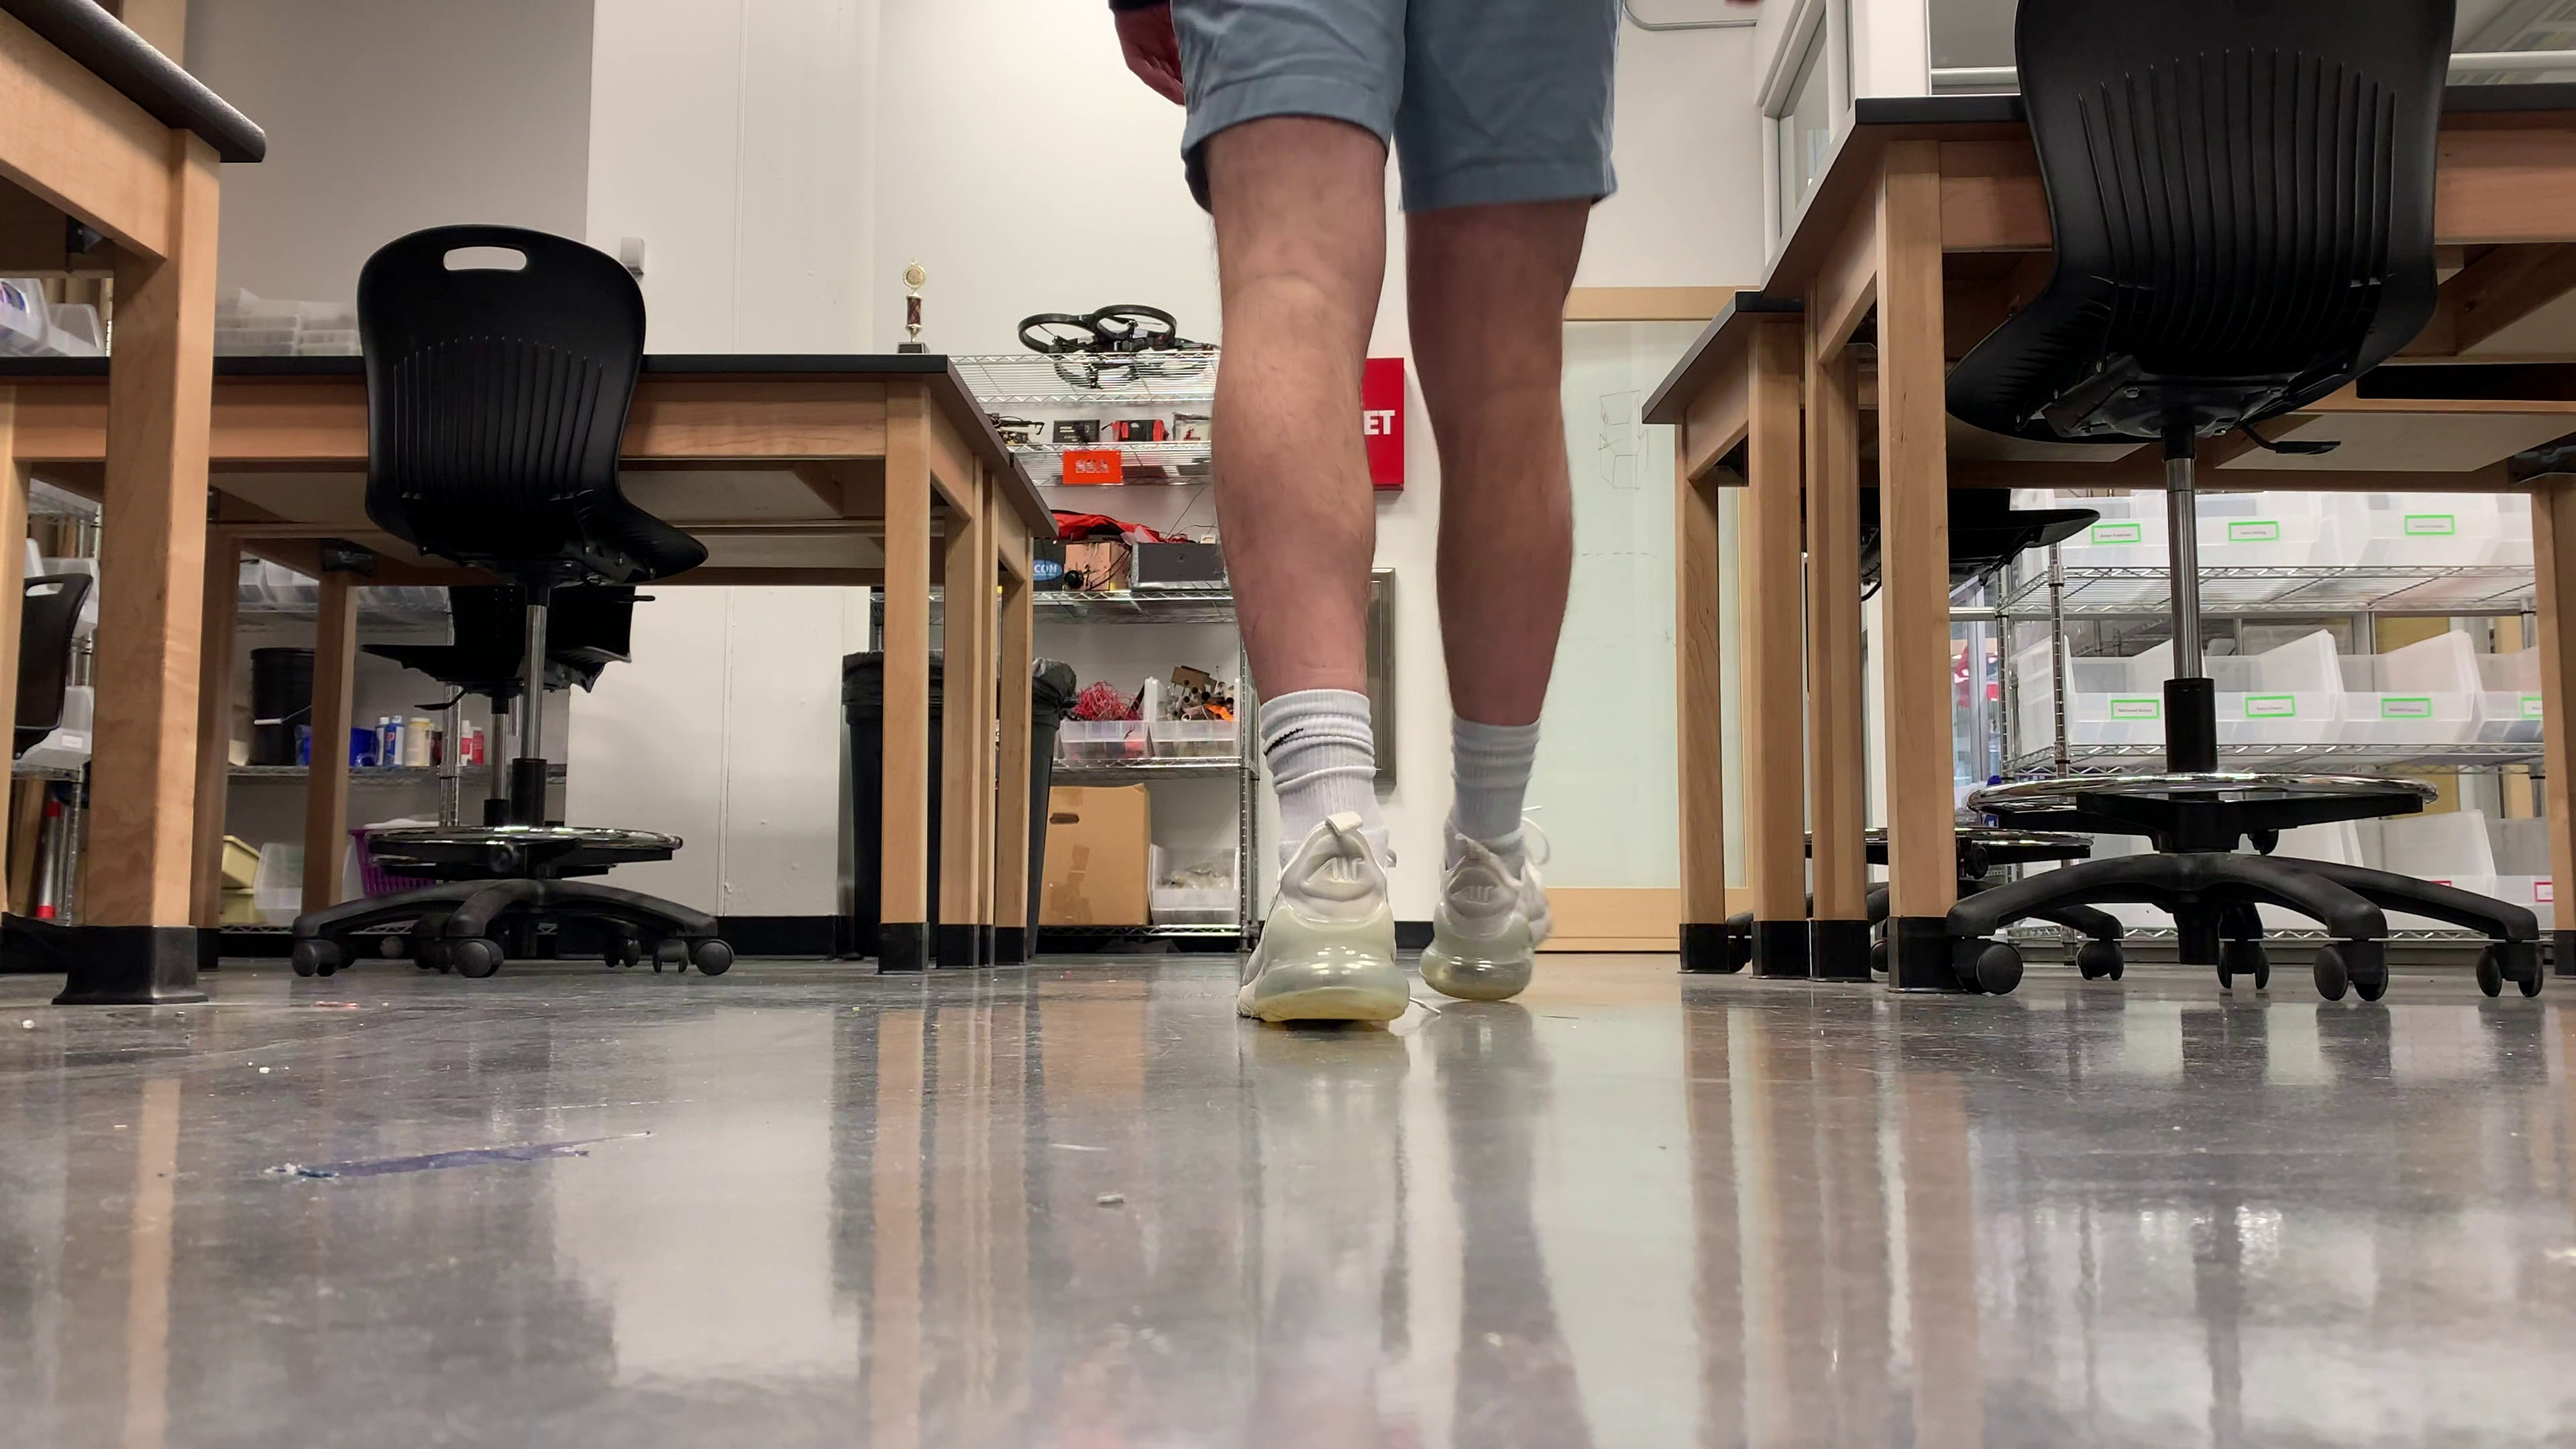shoe: (1240, 819, 1410, 1024), (1422, 844, 1552, 1000)
